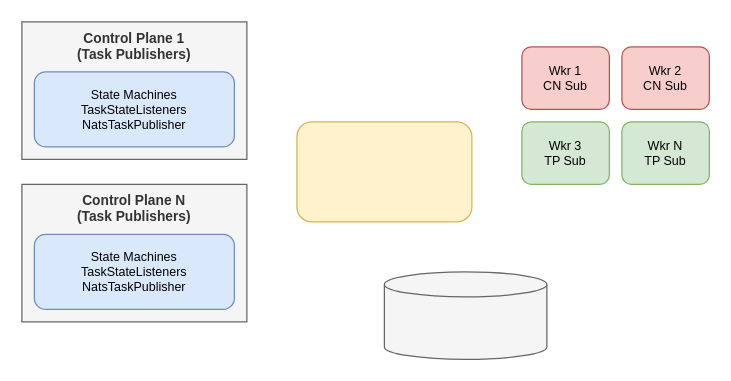
The diagram is 731 pixels wide and 381 high, and some of its shapes have lost their labels. The shapes that lost their labels are listed below. From the top down, each one's centre as x and y in pixels, then its label:
point (384, 171): NATS JetStream (Streams) ├─ cn-stream └─ tp-stream
point (465, 315): PostgreSQL (Shared TaskDB) (State DBs)
